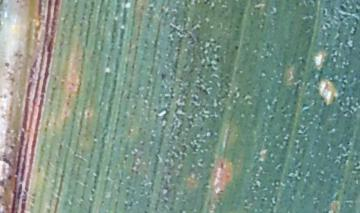tarspot: (2, 60, 11, 69), (232, 44, 241, 51), (212, 56, 221, 63), (6, 173, 13, 182), (159, 72, 165, 81), (344, 140, 351, 147), (202, 1, 211, 6), (14, 1, 20, 5)
